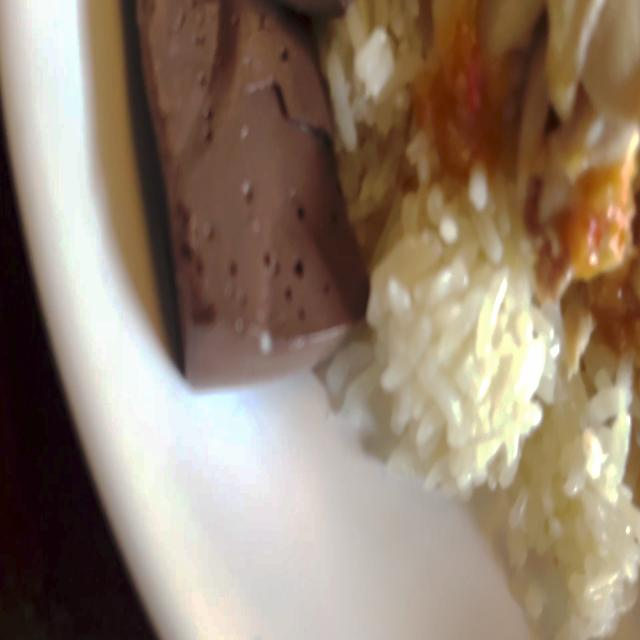boiled_chicken: (425, 0, 640, 277)
boiled_chicken_blood_jelly: (115, 0, 363, 372)
chicken_rice: (119, 0, 640, 624)
